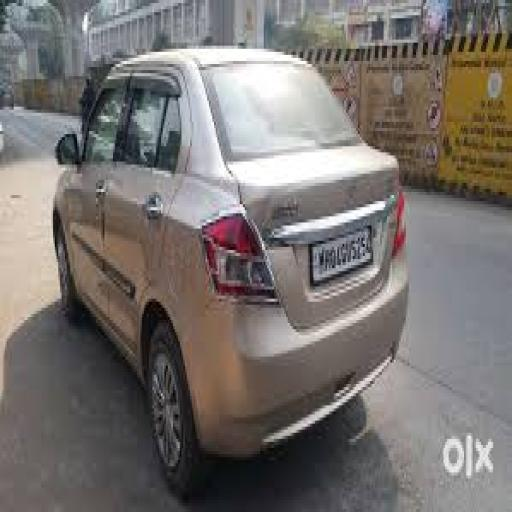License: (304, 224, 378, 286)
